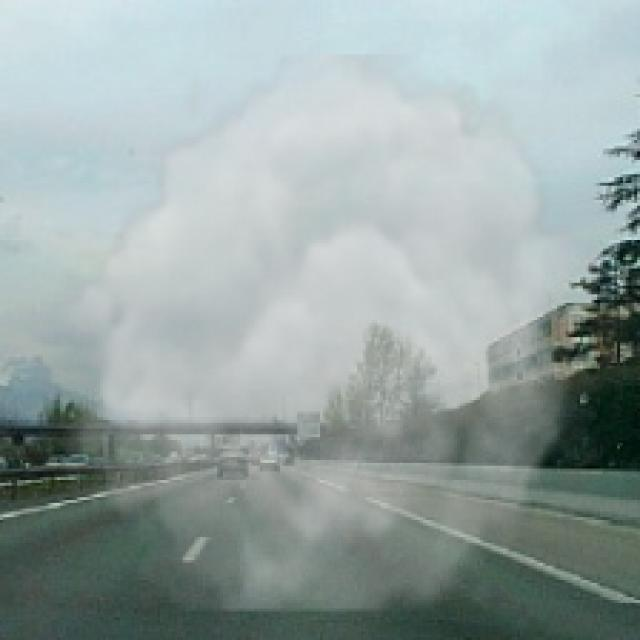smoke: (43, 54, 608, 612)
